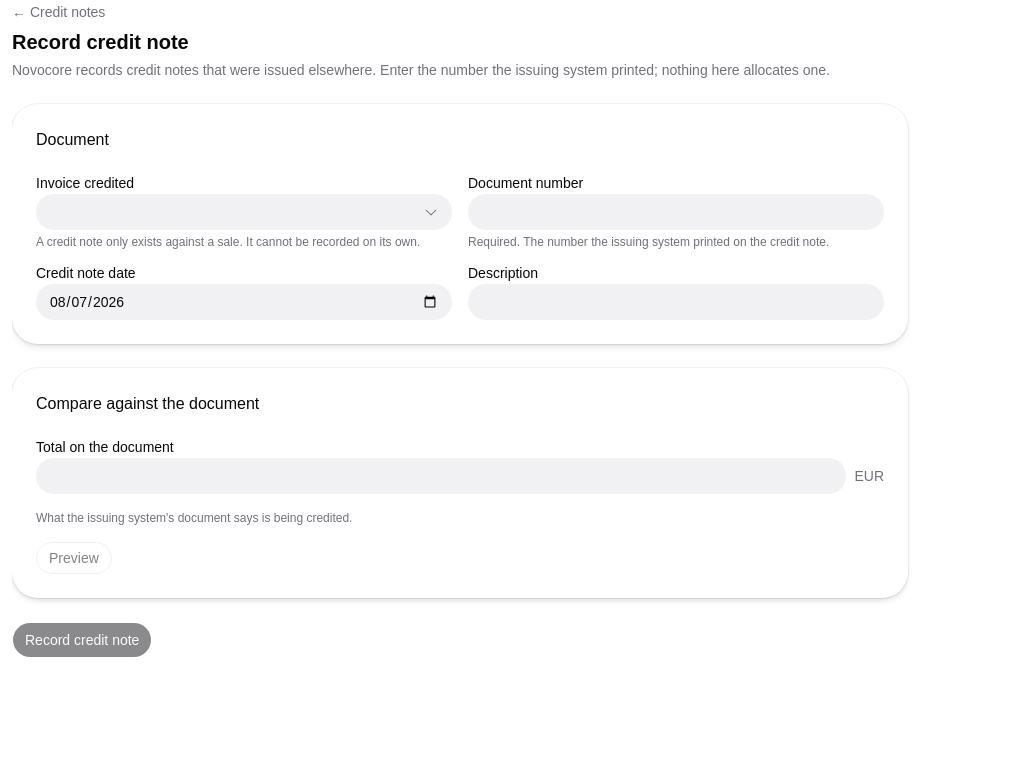
Test case: the credit note record form › fills the lines from the chosen invoice and shows what is derived from it
Expected: the heading "Record credit note" is shown, [12, 31, 189, 53]
Step 1. Click the dropdown named "Invoice credited" → click(431, 212), box [36, 194, 452, 230]
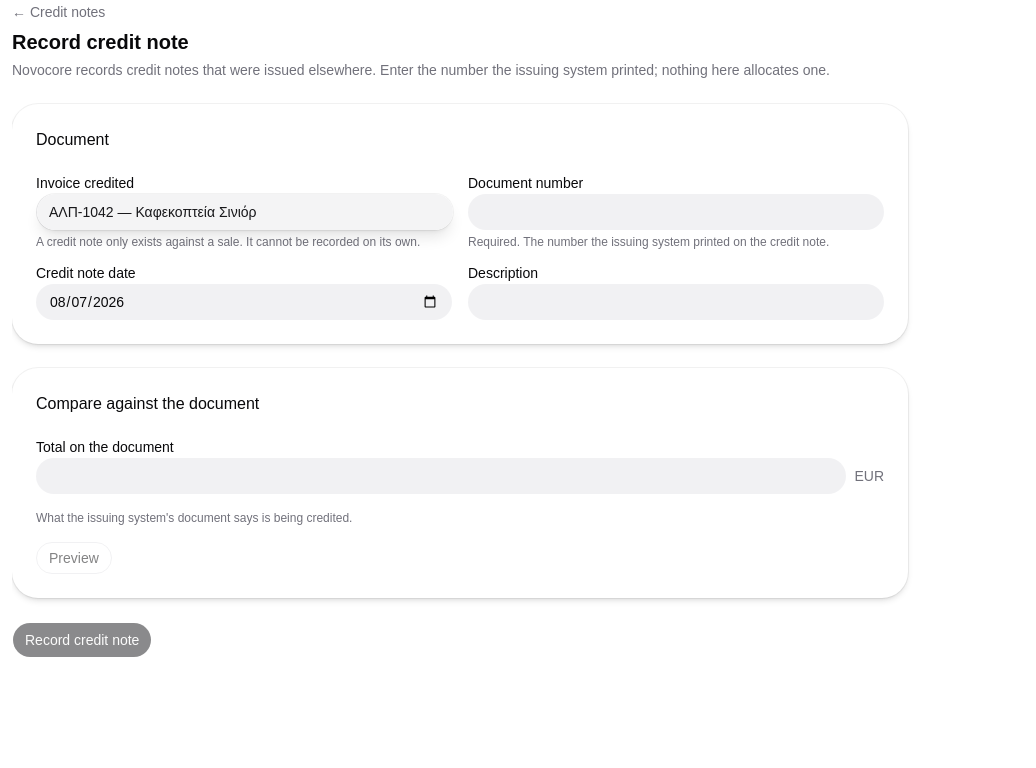
Step 2. Click the option "ΑΛΠ-1042 — Καφεκοπτεία Σινιόρ" → click(245, 212), box [37, 194, 453, 230]
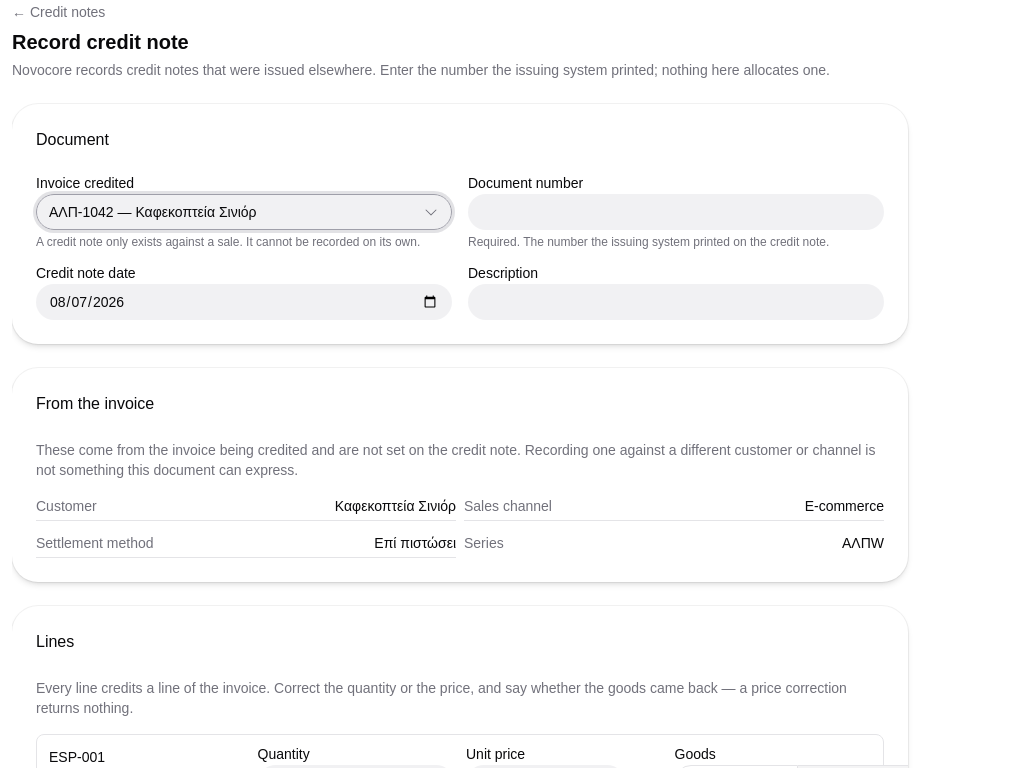
Now the text "ESP-001" is shown, box [49, 749, 105, 765]
Now the text "Καφεκοπτεία Σινιόρ" is shown, box [335, 496, 456, 516]
Now the text "E-commerce" is shown, box [805, 496, 884, 516]
